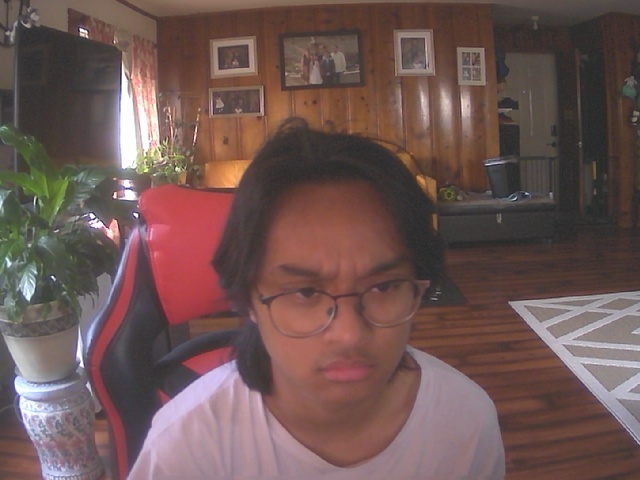anger: (241, 156, 436, 407)
